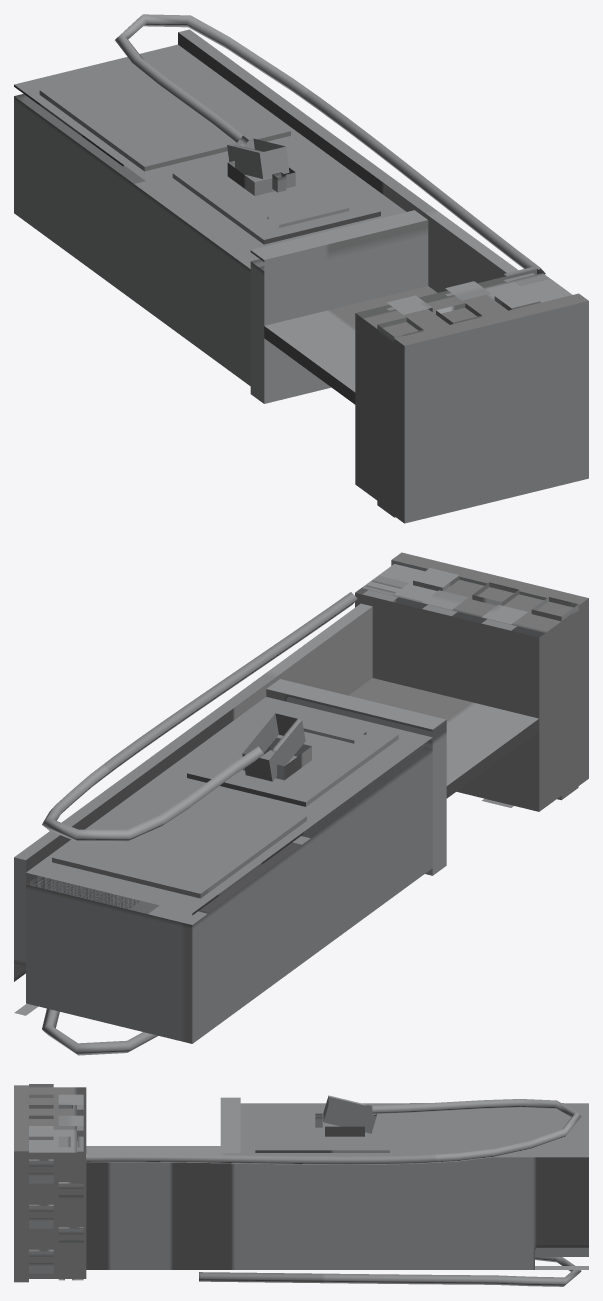
3 views of the same model, one above another, from view 1: azimuth 30°, elevation 25°; view 2: azimuth 150°, elevation 25°; view 3: azimuth 270°, elevation 25° (orthographic). The views are drawn at different scales.
Bounding box in the file's own units: 0.677 × 0.726 × 2.31.
